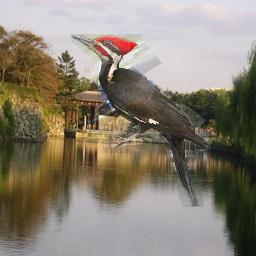Woodpecker: (70, 34, 211, 207)
